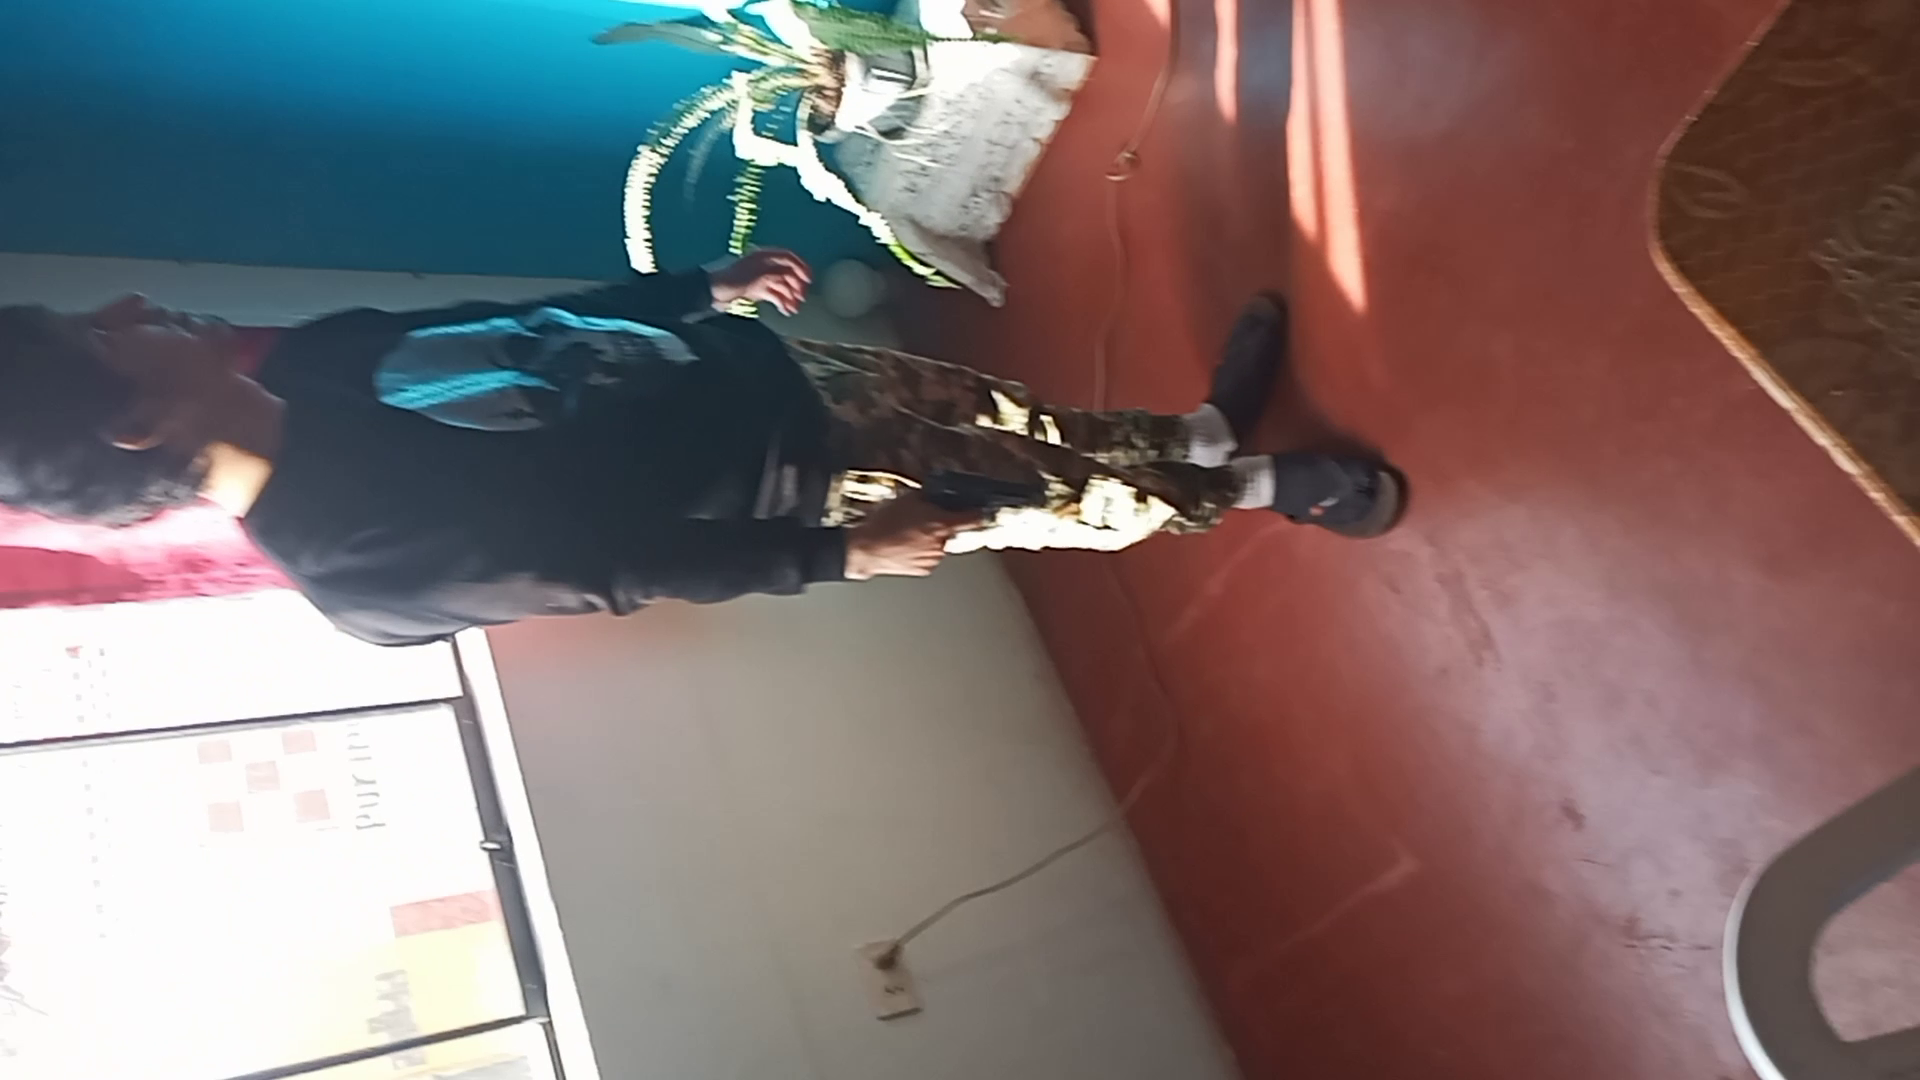Arma: (920, 468, 1048, 524)
